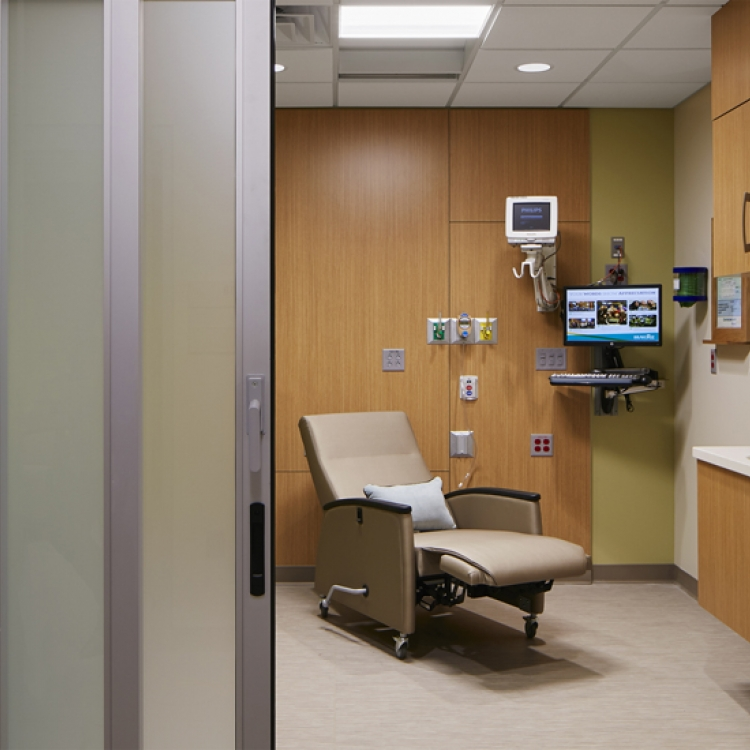bedside_monitor: (505, 195, 556, 244)
cabinet: (702, 1, 750, 276)
computer: (564, 284, 663, 347)
counter: (692, 447, 750, 640)
door_handle: (246, 376, 263, 478)
handle: (739, 188, 750, 253)
keyboard: (551, 372, 641, 388)
sofa: (303, 410, 594, 663)
